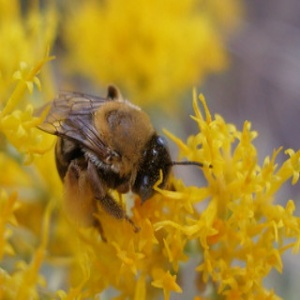bee: (45, 82, 188, 235)
